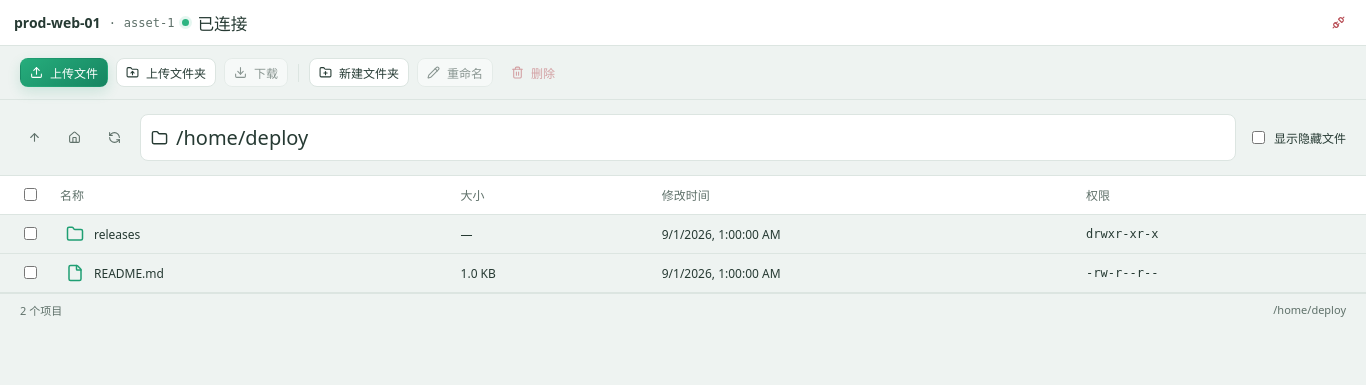
Scenario: 浏览远程目录并切换隐藏文件，输入路径后进入服务器返回目录
Check: the button with aria-label "打开 releases" is shown, box [60,224,146,244]
Check: the text ".env" is not shown
Click the checkbox labelled "显示隐藏文件".
click(1258, 138)  # box [1252,131,1265,144]
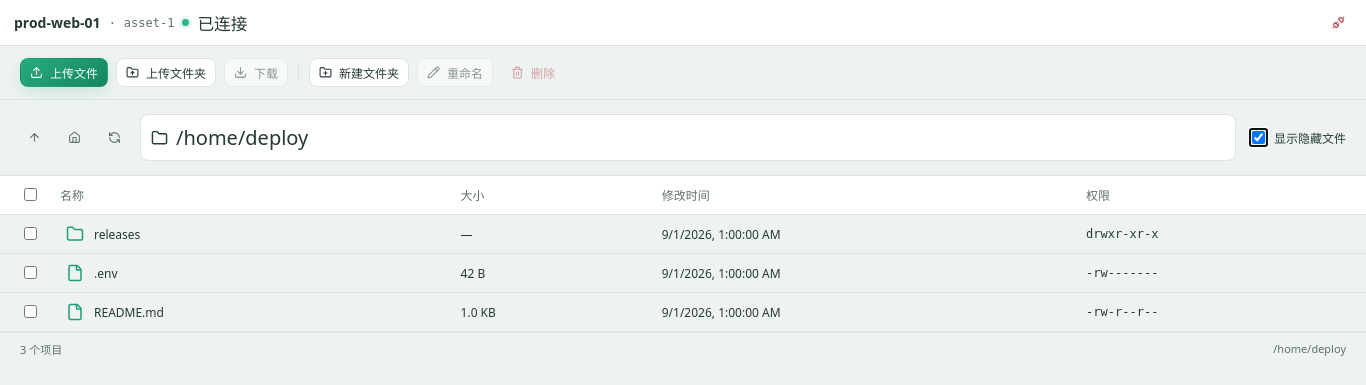
Check: the text ".env" is shown, box [94,264,118,282]
Double-click the button with aria-label "打开 releases".
double_click(103, 234)  # box [60,224,146,244]
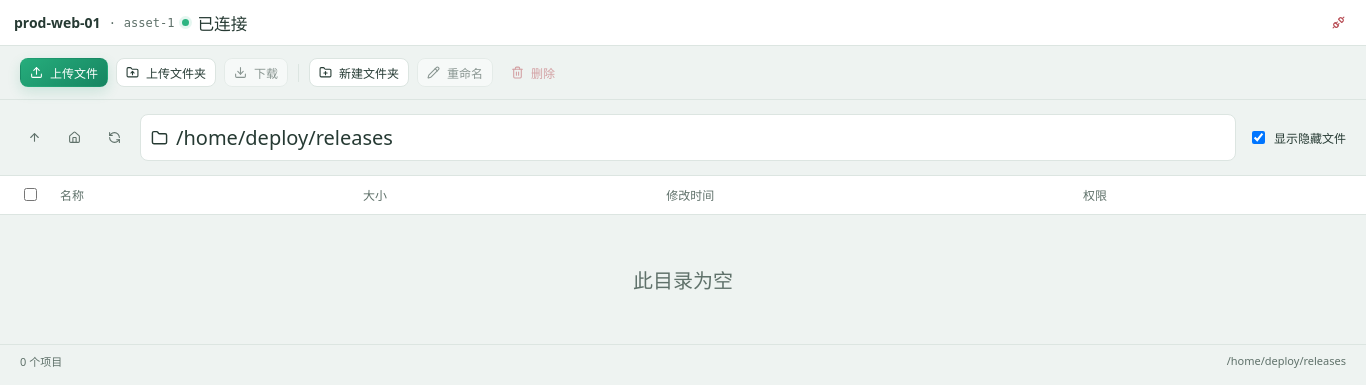
Check: the text "此目录为空" is shown, box [633,267,733,294]
Check: the field named "远程路径" holds "/home/deploy/releases"
Replace the text in the field named "远程路径" with "/home/deploy" at x=700, y=138, box [176,115,1225,160]
Then press Enter
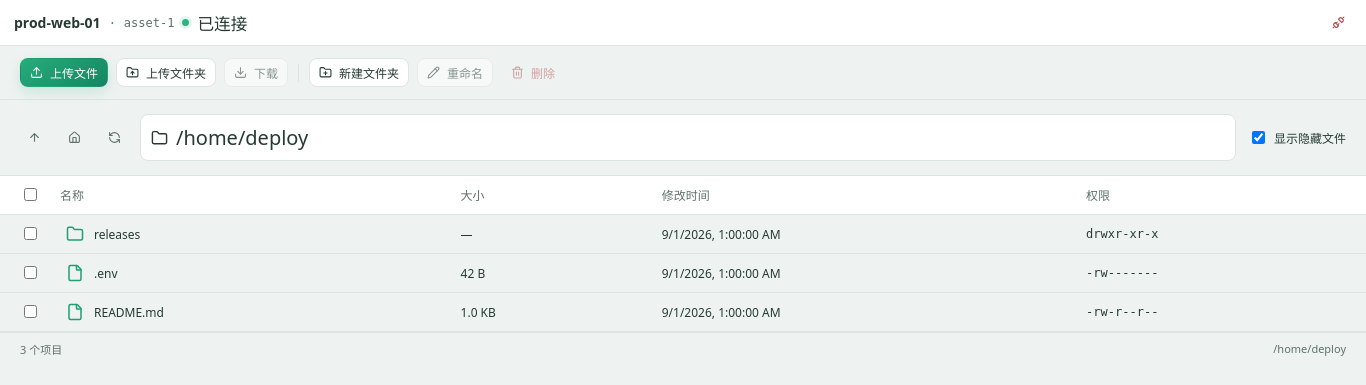
Check: the text "README.md" is shown, box [94,304,164,320]
